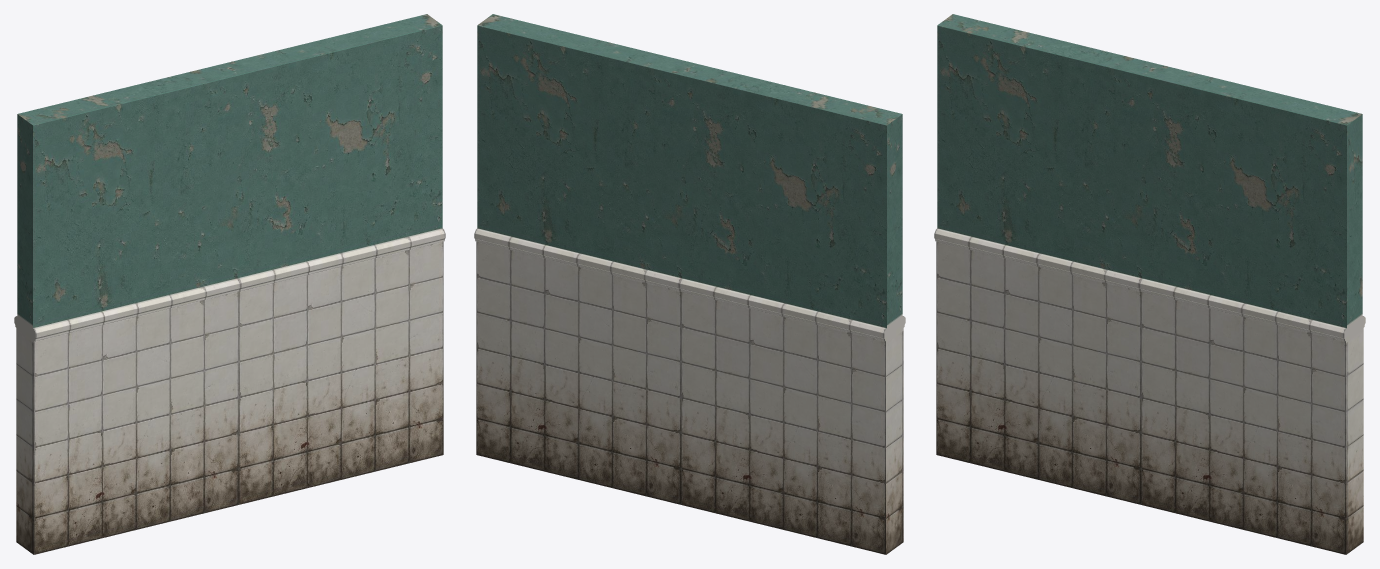
The model's file is mg_wall.glb.
3 renders of one model, left to right at view 1: azimuth 30°, elevation 25°; view 2: azimuth 150°, elevation 25°; view 3: azimuth 330°, elevation 25°, orthographic.
Parts seen in each view (by area): view 1: Delivery_54_Wall_tiled_0; view 2: Delivery_54_Wall_tiled_0; view 3: Delivery_54_Wall_tiled_0.
Boxes of the visible parts, x1,y1,x2,y2 form: Delivery_54_Wall_tiled_0: [14, 14, 445, 554]; Delivery_54_Wall_tiled_0: [474, 14, 905, 554]; Delivery_54_Wall_tiled_0: [934, 14, 1365, 554].
Bounding box in the file's own units: 3 × 3 × 0.27.
Materials: 1 (1 with a texture image).
